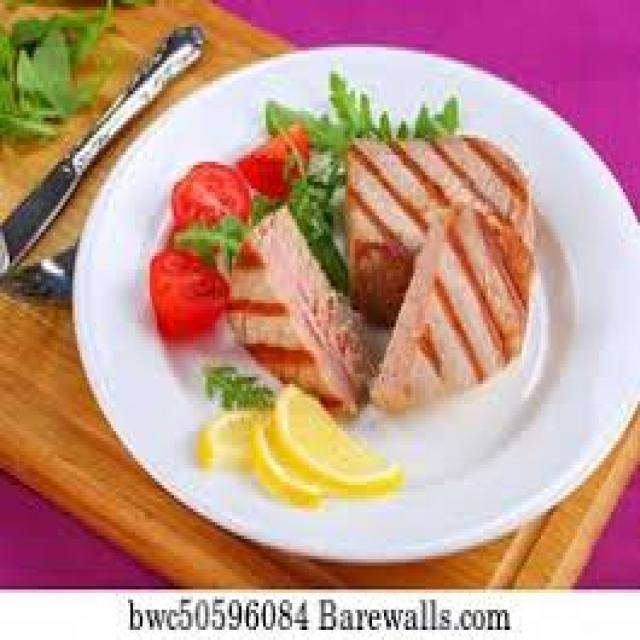lemon: (273, 379, 405, 499)
